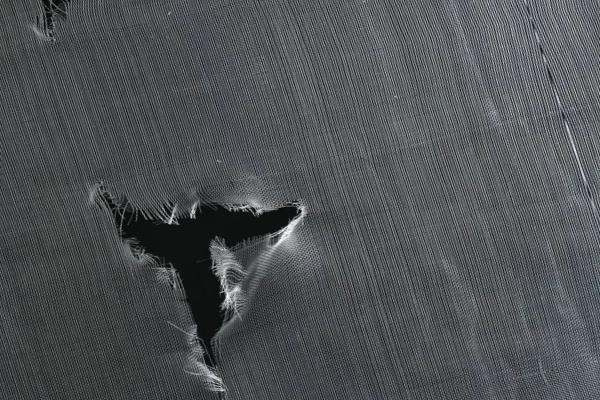hole: (86, 173, 310, 398), (29, 2, 75, 42)
